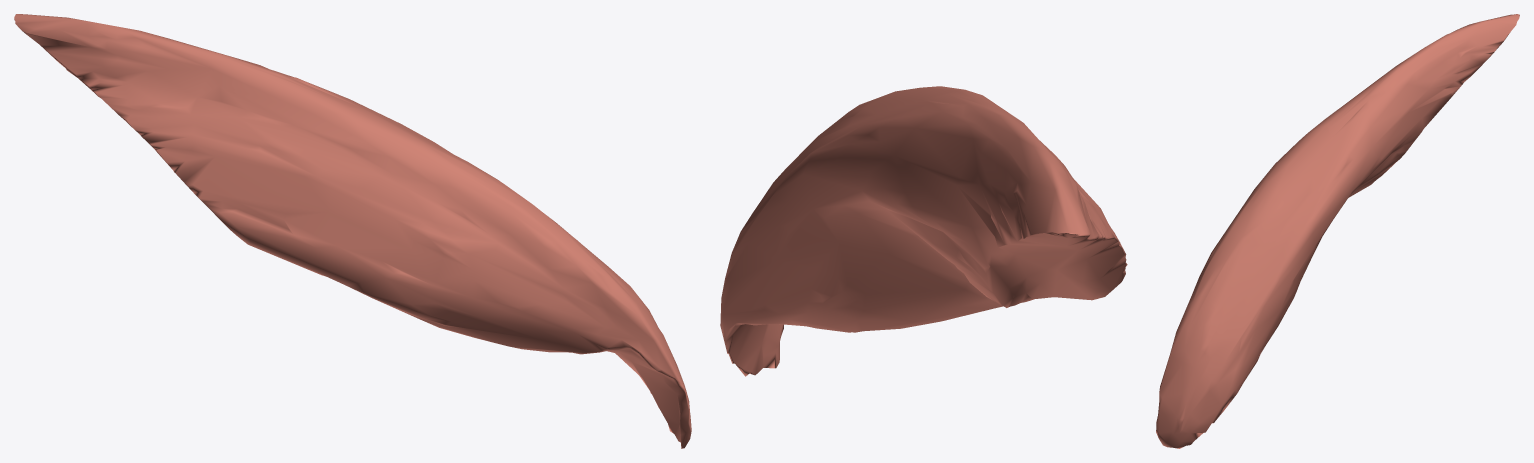
3 views of the same model, side by side, from view 1: azimuth 30°, elevation 25°; view 2: azimuth 150°, elevation 25°; view 3: azimuth 270°, elevation 25° (orthographic). The views are drawn at different scales.
Parts seen in each view (by area): view 1: 左侧小圆肌; view 2: 左侧小圆肌; view 3: 左侧小圆肌.
Part boxes in pixels (left/top/right/bottom): 左侧小圆肌: left=14, top=14, right=691, bottom=448; 左侧小圆肌: left=720, top=86, right=1127, bottom=376; 左侧小圆肌: left=1156, top=14, right=1519, bottom=448.
Size of the model in its own units: 0.1416 by 0.1118 by 0.1319.
